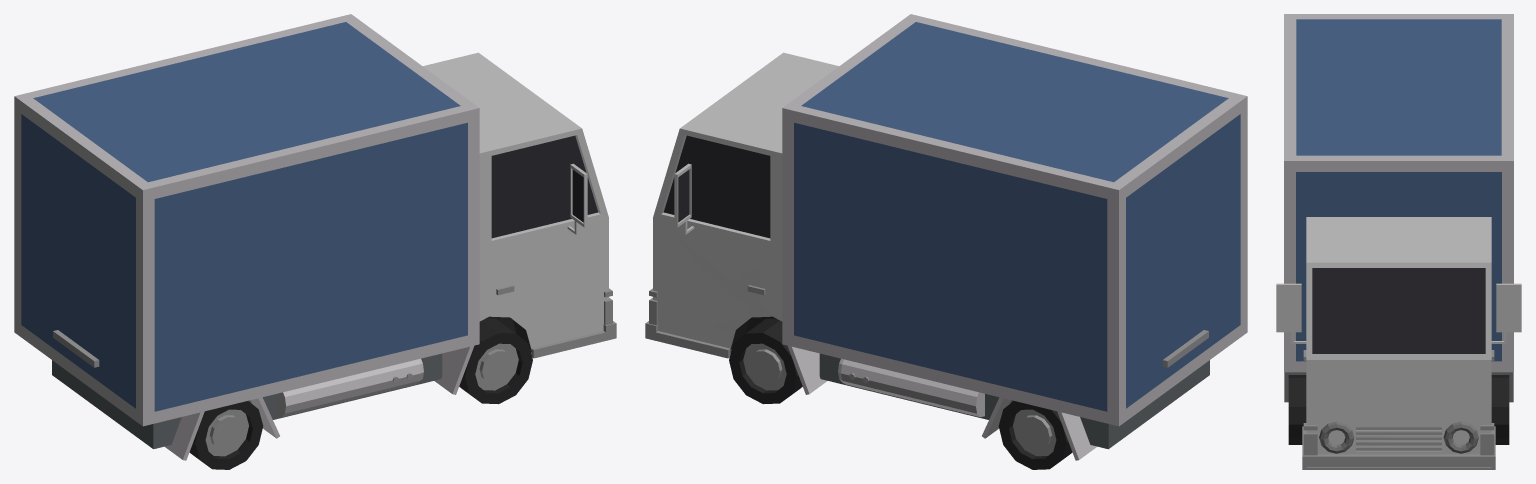
The model's file is truck.fbx.
The picture shows the model from 3 angles, left to right: view 1: azimuth 30°, elevation 25°; view 2: azimuth 150°, elevation 25°; view 3: azimuth 270°, elevation 25°; orthographic projection. The views are drawn at different scales.
Parts seen in each view (by area): view 1: Cube.916_Cube.100, Cube.916_Cube.116, Cube.916_Cube.119, Cube.916_Cube.104, Cube.916_Cube.118, Cube.916_Cube.033, Cube.916_Cube.115, Cube.916_Cube.113, Cube.916_Cube.117, Cube.916_Cube.120, Cube.916_Cube.108, Cube.916_Cube.044 (+35 smaller); view 2: Cube.916_Cube.033, Cube.916_Cube.044, Cube.916_Cube.116, Cube.916_Cube.048, Cube.916_Cube.100, Cube.916_Cube.039, Cube.916_Cube.036, Cube.916_Cube.043, Cube.916_Cube.035, Cube.916_Cube.041, Cube.916_Cube.054, Cube.916_Cube.034 (+35 smaller); view 3: Cube.916_Cube.074, Cube.916_Cube.078, Cube.916_Cube.081, Cube.916_Cube.076, Cube.916_Cube.100, Cube.916_Cube.063, Cube.916_Cube.051, Cube.916_Cube.116, Cube.916_Cube.044, Cube.916_Cube.111, Cube.916_Cube.084, Cube.916_Cube.085 (+20 smaller).
Boxes of the visible parts, <box> form: Cube.916_Cube.100: <box>258,59,437,190</box>; Cube.916_Cube.116: <box>69,119,225,233</box>; Cube.916_Cube.119: <box>53,292,208,420</box>; Cube.916_Cube.104: <box>285,249,467,345</box>; Cube.916_Cube.118: <box>69,220,185,345</box>; Cube.916_Cube.033: <box>14,76,155,173</box>; Cube.916_Cube.115: <box>155,354,301,469</box>; Cube.916_Cube.113: <box>185,253,288,361</box>; Cube.916_Cube.117: <box>69,175,210,278</box>; Cube.916_Cube.120: <box>53,355,258,468</box>; Cube.916_Cube.108: <box>281,322,398,417</box>; Cube.916_Cube.044: <box>203,24,372,89</box>; Cube.916_Cube.033: <box>1036,127,1173,233</box>; Cube.916_Cube.044: <box>824,71,984,190</box>; Cube.916_Cube.116: <box>1096,76,1247,187</box>; Cube.916_Cube.048: <box>794,249,976,345</box>; Cube.916_Cube.100: <box>881,24,1058,107</box>; Cube.916_Cube.039: <box>922,103,1074,216</box>; Cube.916_Cube.036: <box>1053,305,1173,420</box>; Cube.916_Cube.043: <box>960,354,1106,469</box>; Cube.916_Cube.035: <box>1076,234,1173,345</box>; Cube.916_Cube.041: <box>973,253,1076,361</box>; Cube.916_Cube.054: <box>780,294,891,396</box>; Cube.916_Cube.034: <box>1051,188,1173,278</box>; Cube.916_Cube.074: <box>1302,404,1495,469</box>; Cube.916_Cube.078: <box>1276,296,1491,352</box>; Cube.916_Cube.081: <box>1306,360,1491,404</box>; Cube.916_Cube.076: <box>1276,246,1424,312</box>; Cube.916_Cube.100: <box>1284,96,1440,142</box>; Cube.916_Cube.063: <box>1399,246,1521,312</box>; Cube.916_Cube.051: <box>1399,142,1513,194</box>; Cube.916_Cube.116: <box>1284,14,1423,49</box>; Cube.916_Cube.044: <box>1400,96,1513,142</box>; Cube.916_Cube.111: <box>1296,61,1421,96</box>; Cube.916_Cube.084: <box>1284,161,1398,194</box>; Cube.916_Cube.085: <box>1284,194,1398,267</box>.
Bounding box in the file's own units: 256 × 152 × 124.
